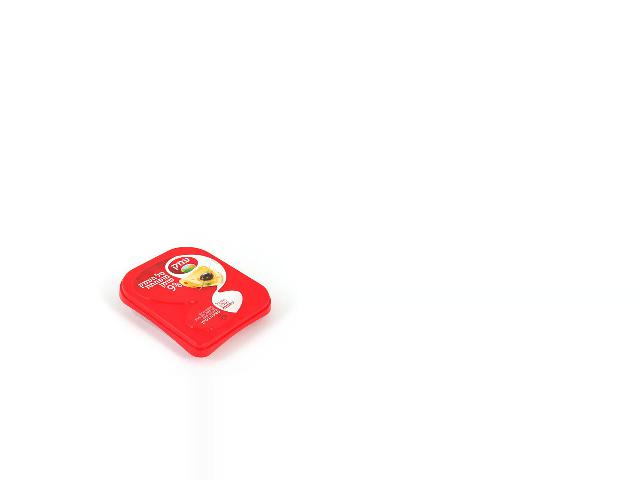cheese: (119, 246, 271, 358)
